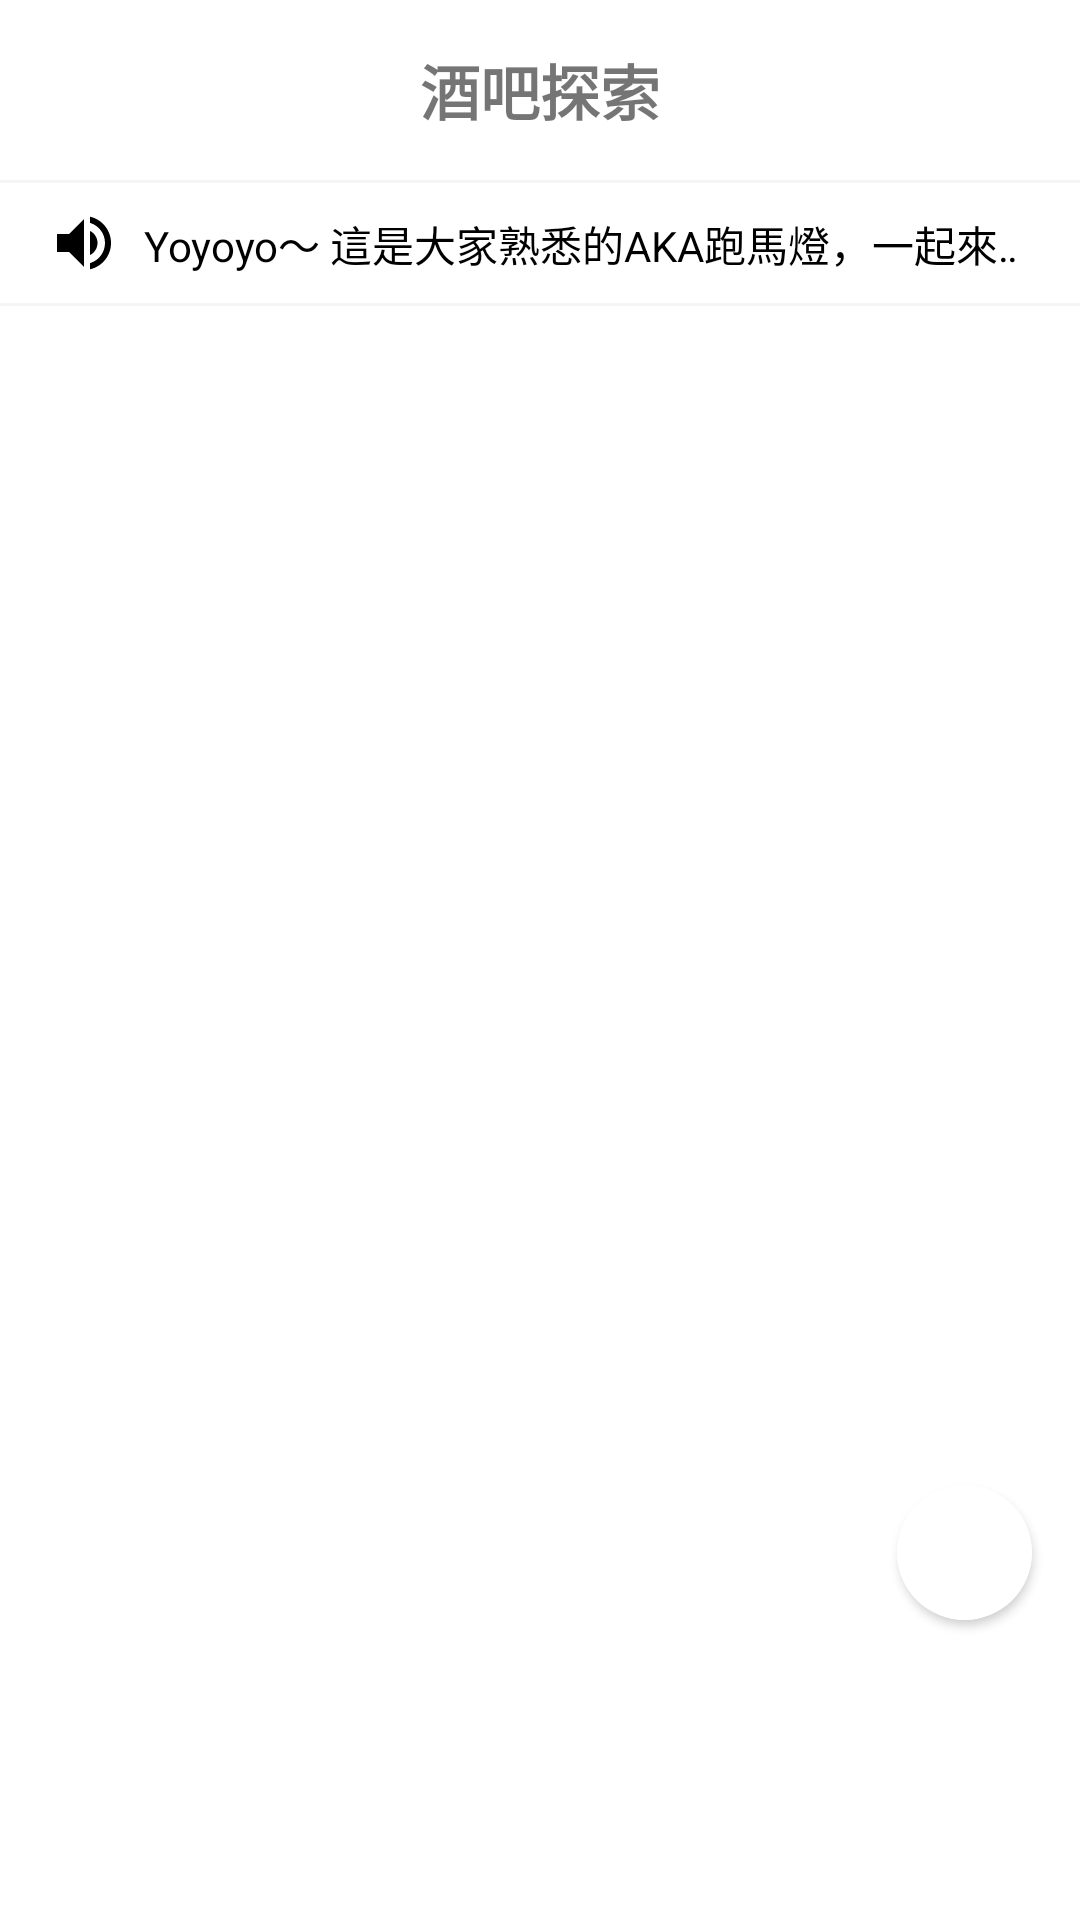

Locate icon controls on the screen. Image size 1080px x 1920px, boxes as [left=x1, top=y1, right=x2, bottom=y2].
volume up: [left=57, top=216, right=111, bottom=270]
